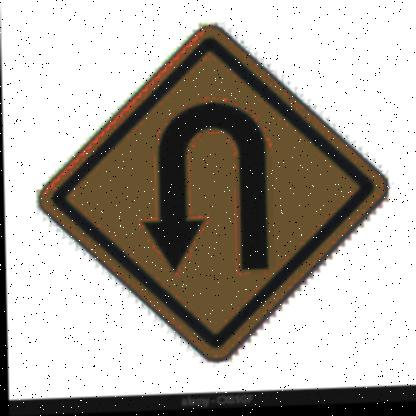U-turn: (37, 25, 390, 367)
